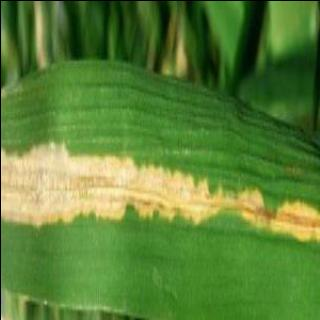Hawar-Daun: (58, 151, 180, 223), (2, 135, 73, 233), (178, 168, 274, 228), (271, 185, 320, 251)
